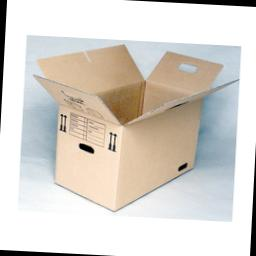cardboard: (20, 36, 234, 214)
